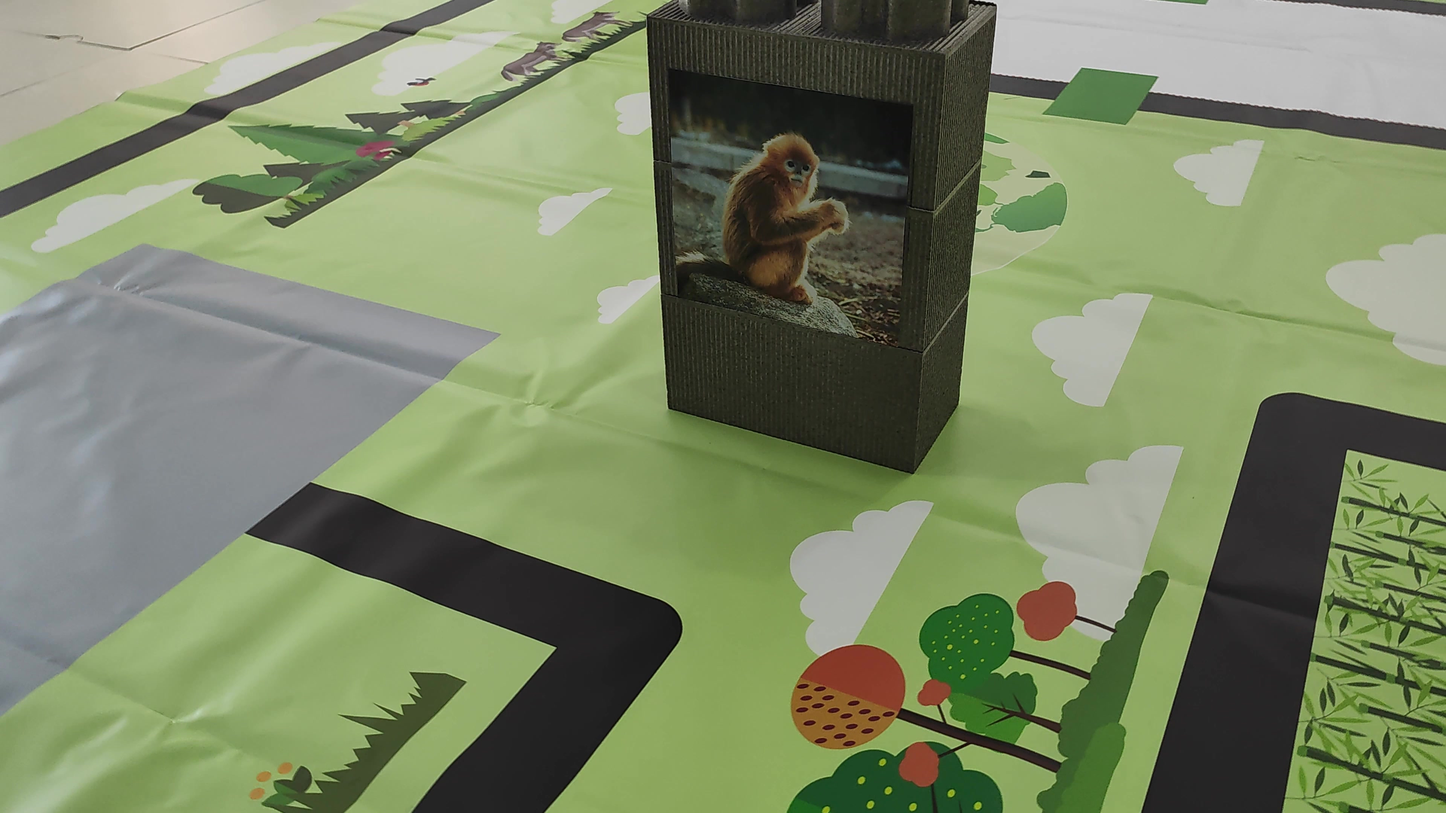monkey: (672, 117, 875, 312)
